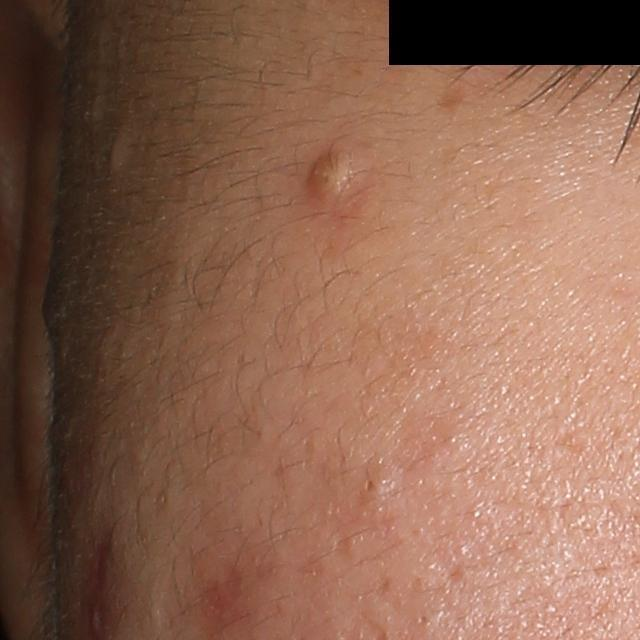comedo: (104, 127, 126, 179), (415, 609, 432, 630)
melasma: (438, 138, 490, 183), (434, 87, 470, 118)
pustule: (311, 144, 367, 209)
